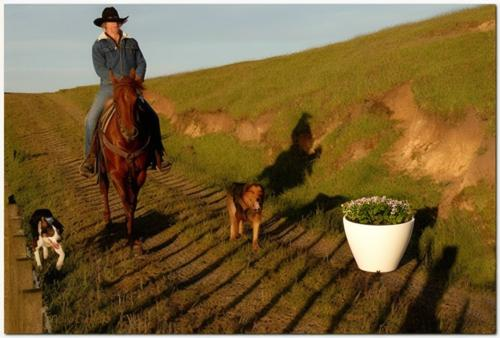dog: (224, 178, 270, 251), (27, 206, 69, 277)
horse: (94, 65, 167, 249)
person: (82, 6, 175, 177)
person/foot: (157, 158, 173, 171), (83, 160, 95, 176)
person/head: (93, 7, 130, 33)
pottedplant: (338, 195, 419, 272)
